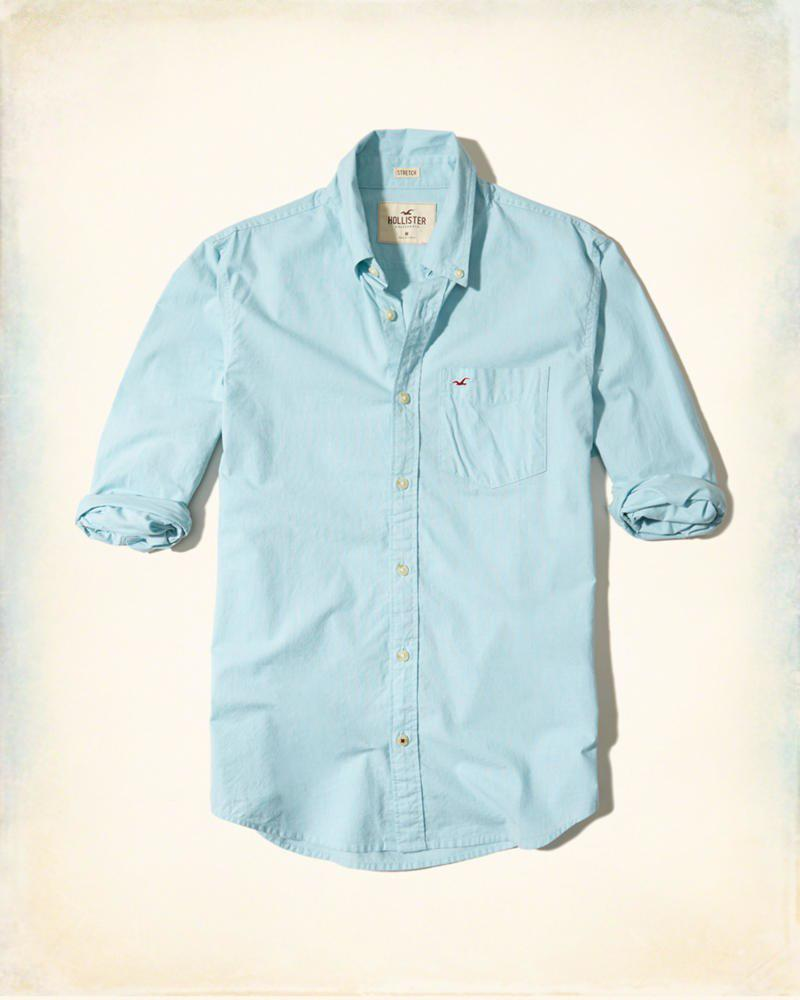teeshirt: (71, 118, 736, 874)
